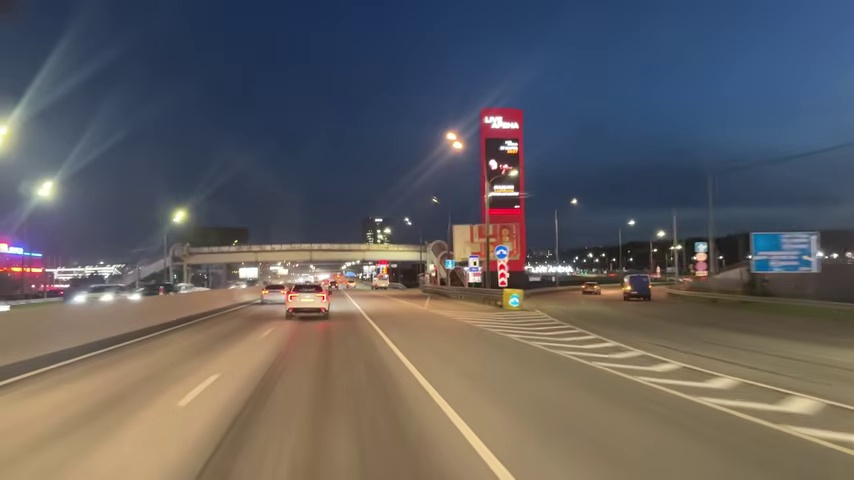acesa: (33, 178, 58, 202), (444, 129, 466, 153), (170, 206, 190, 226), (0, 123, 8, 155), (624, 217, 638, 231), (567, 196, 581, 210), (654, 228, 667, 240), (429, 196, 441, 208)
